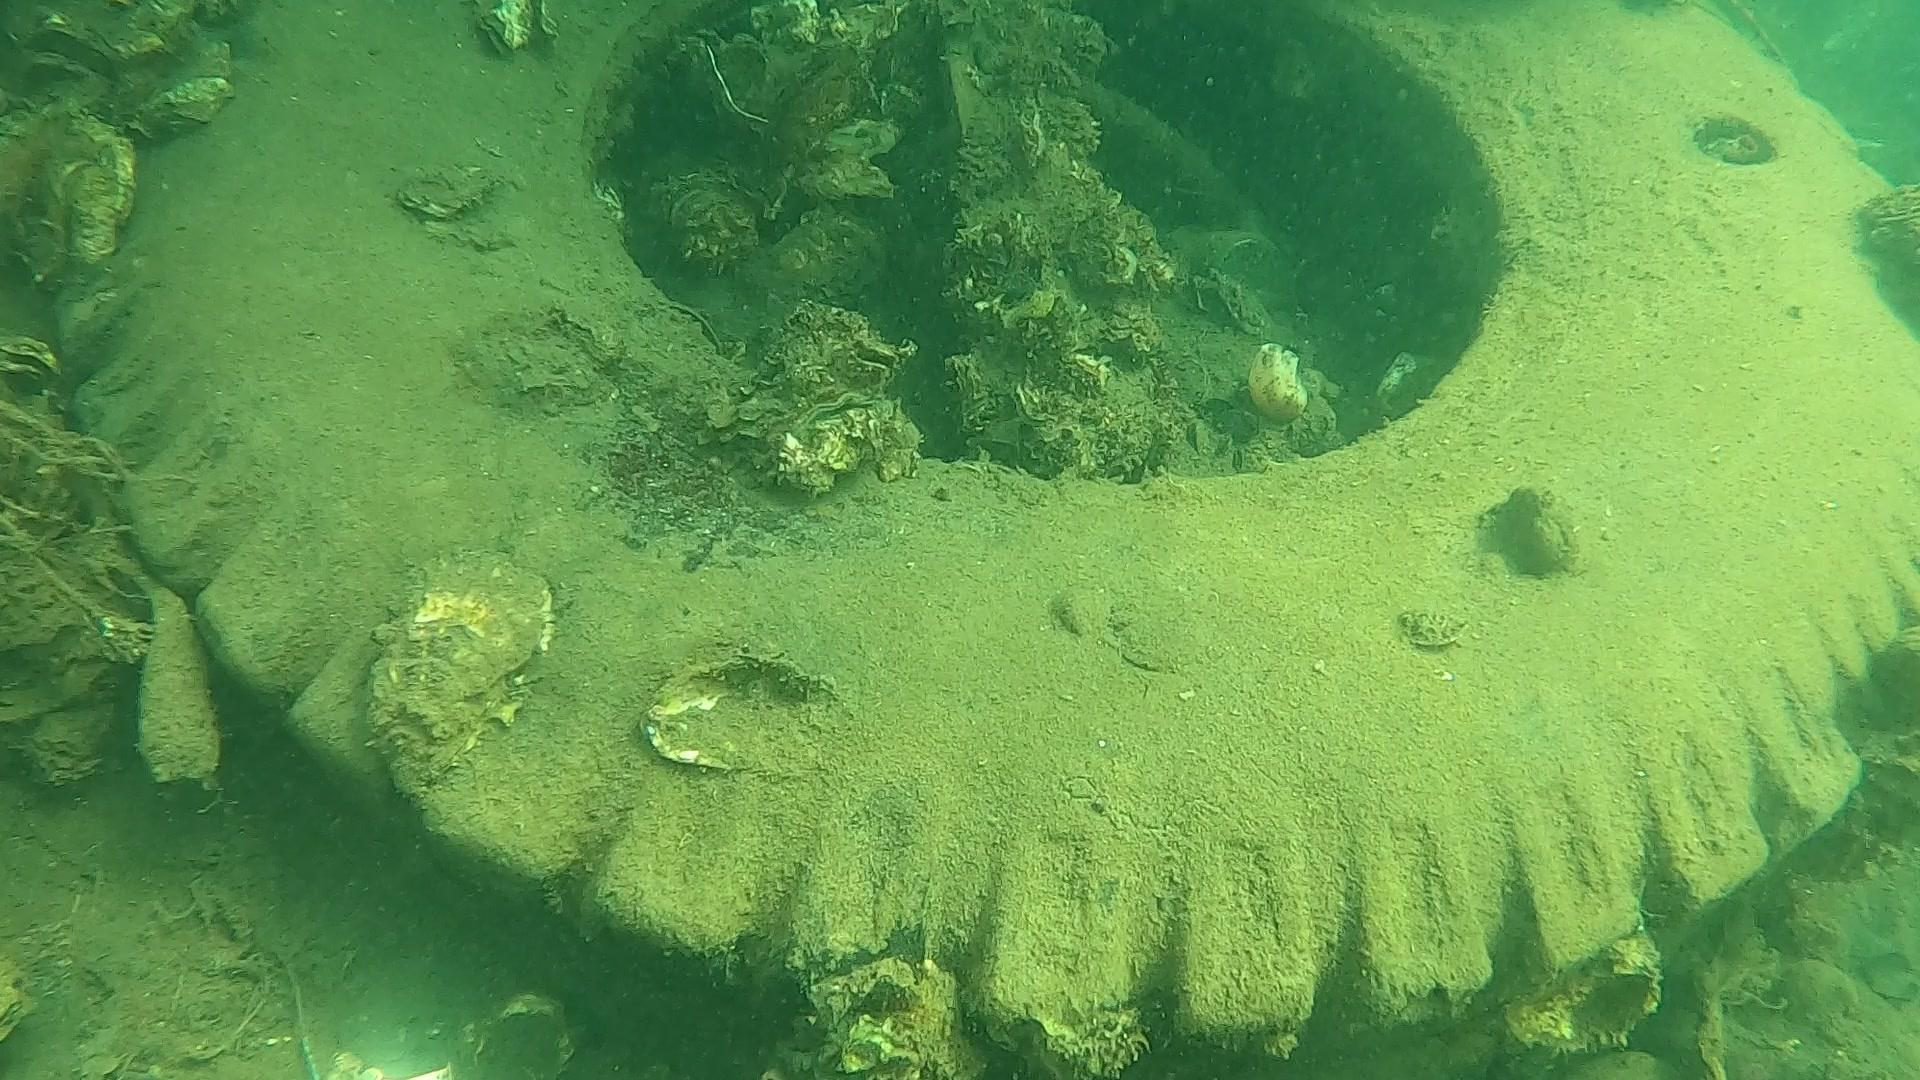tire: (44, 0, 1920, 1080)
